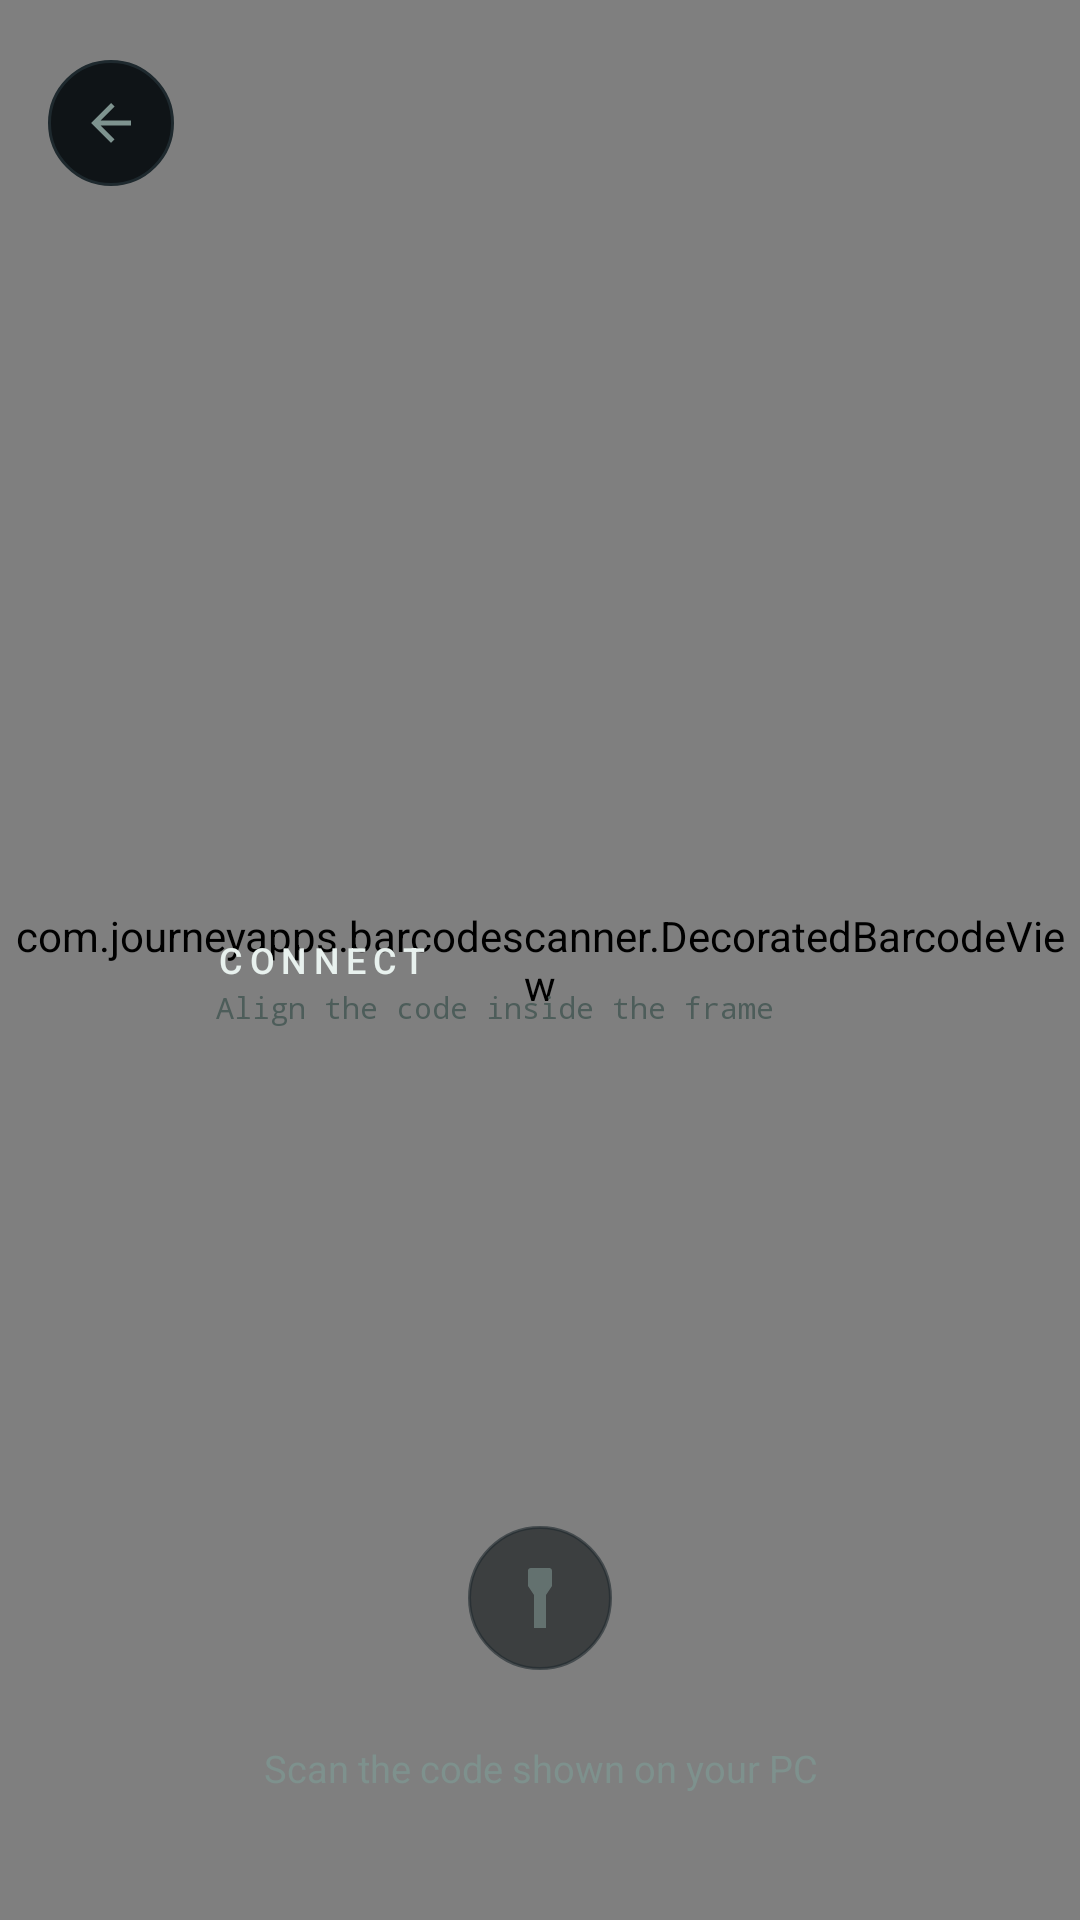

Icons on this 1080 × 1920 Android screen, each with the point to tap as (x=x, y=y):
Back: (x=111, y=123)
Torch: (x=540, y=1598)
